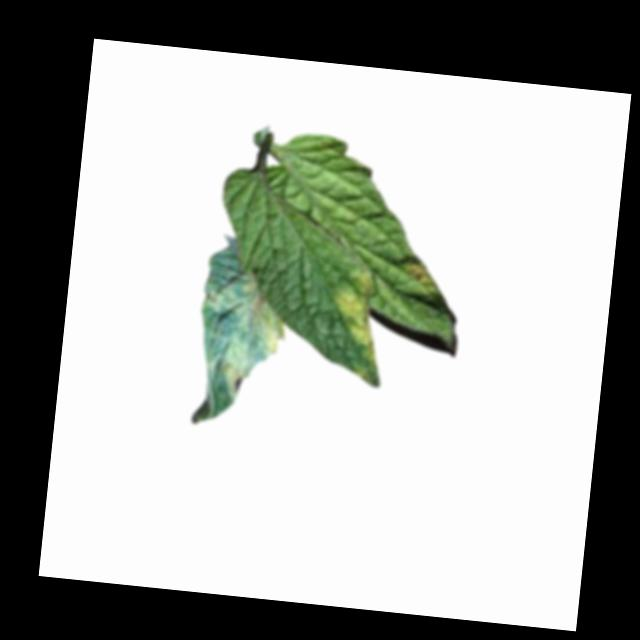Leaf_Mold: (326, 266, 380, 387), (232, 272, 290, 355), (215, 350, 249, 401), (397, 254, 433, 287)
